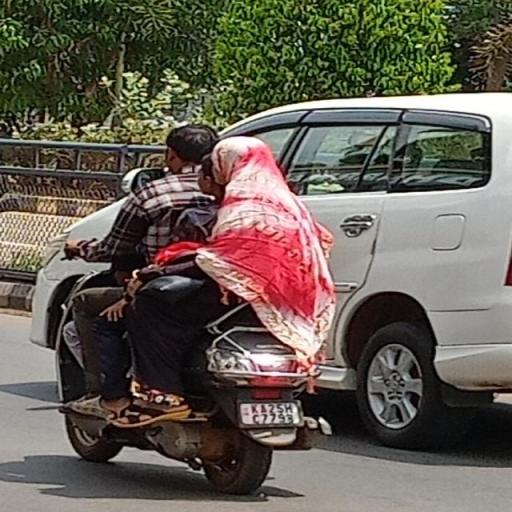bike: (42, 120, 357, 474)
numberplate: (239, 402, 295, 426)
withouthelmet: (165, 126, 216, 172), (212, 139, 266, 177)
